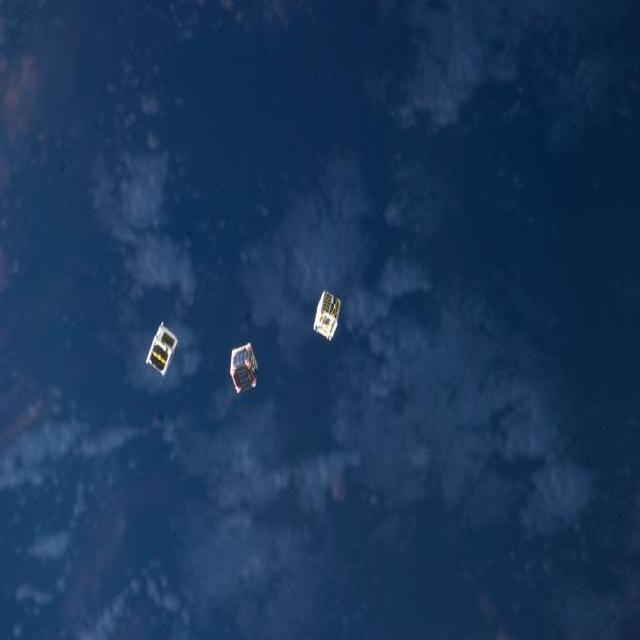satellite: (146, 322, 179, 376), (230, 343, 258, 393), (314, 290, 341, 340)
